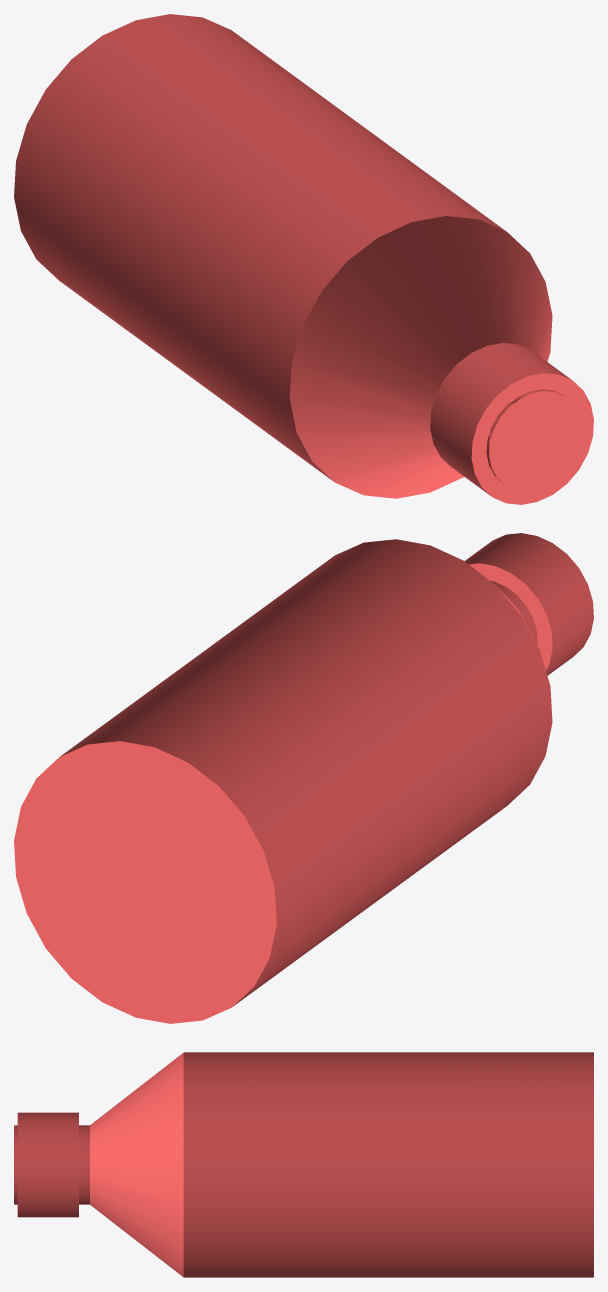
File: model_align.obj
3 views of the same model, one above another, from view 1: azimuth 30°, elevation 25°; view 2: azimuth 150°, elevation 25°; view 3: azimuth 270°, elevation 25° (orthographic). The views are drawn at different scales.
Visible parts, largest first — view 1: mesh1_mesh1-geometry; view 2: mesh1_mesh1-geometry; view 3: mesh1_mesh1-geometry.
Boxes of the visible parts, left/top/right/bottom form: mesh1_mesh1-geometry: left=14, top=14, right=593, bottom=504; mesh1_mesh1-geometry: left=14, top=533, right=593, bottom=1023; mesh1_mesh1-geometry: left=14, top=1052, right=593, bottom=1277.
Size of the model in its own units: 0.0569 by 0.0569 by 0.1462.
